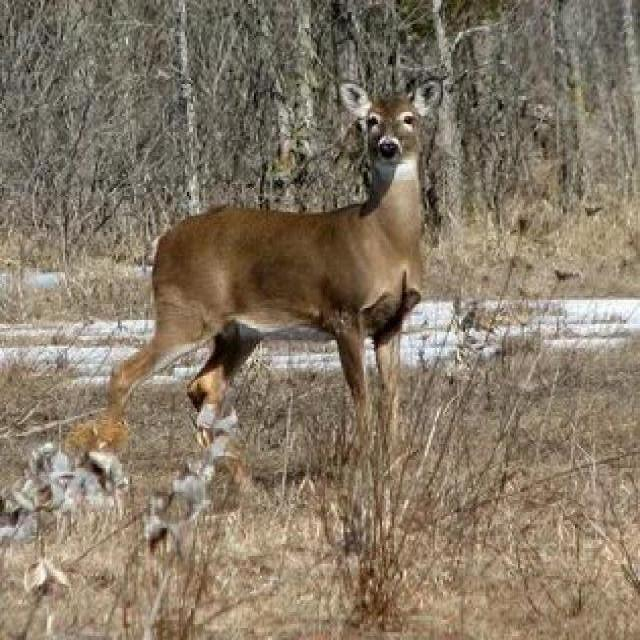deer: (90, 80, 489, 468)
